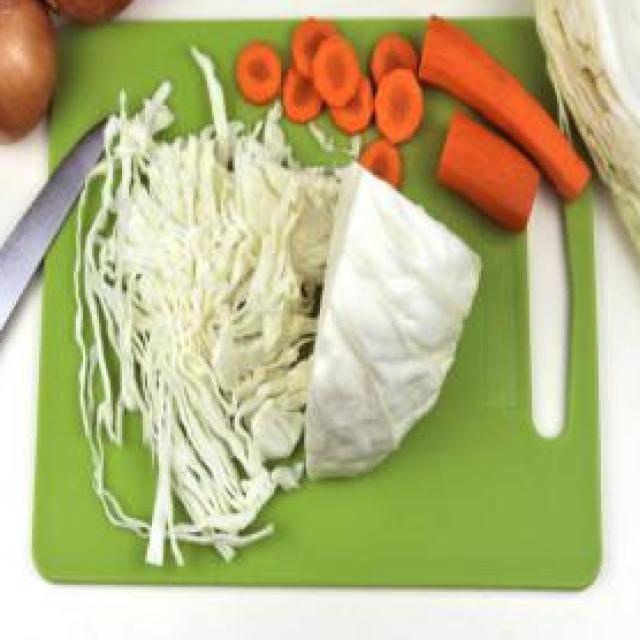knife: (0, 111, 122, 412)
